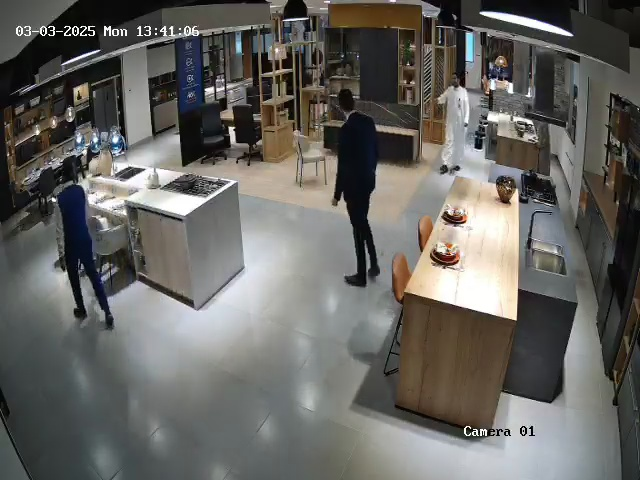employee: (55, 156, 115, 328), (331, 88, 381, 287)
male: (429, 71, 470, 175)
